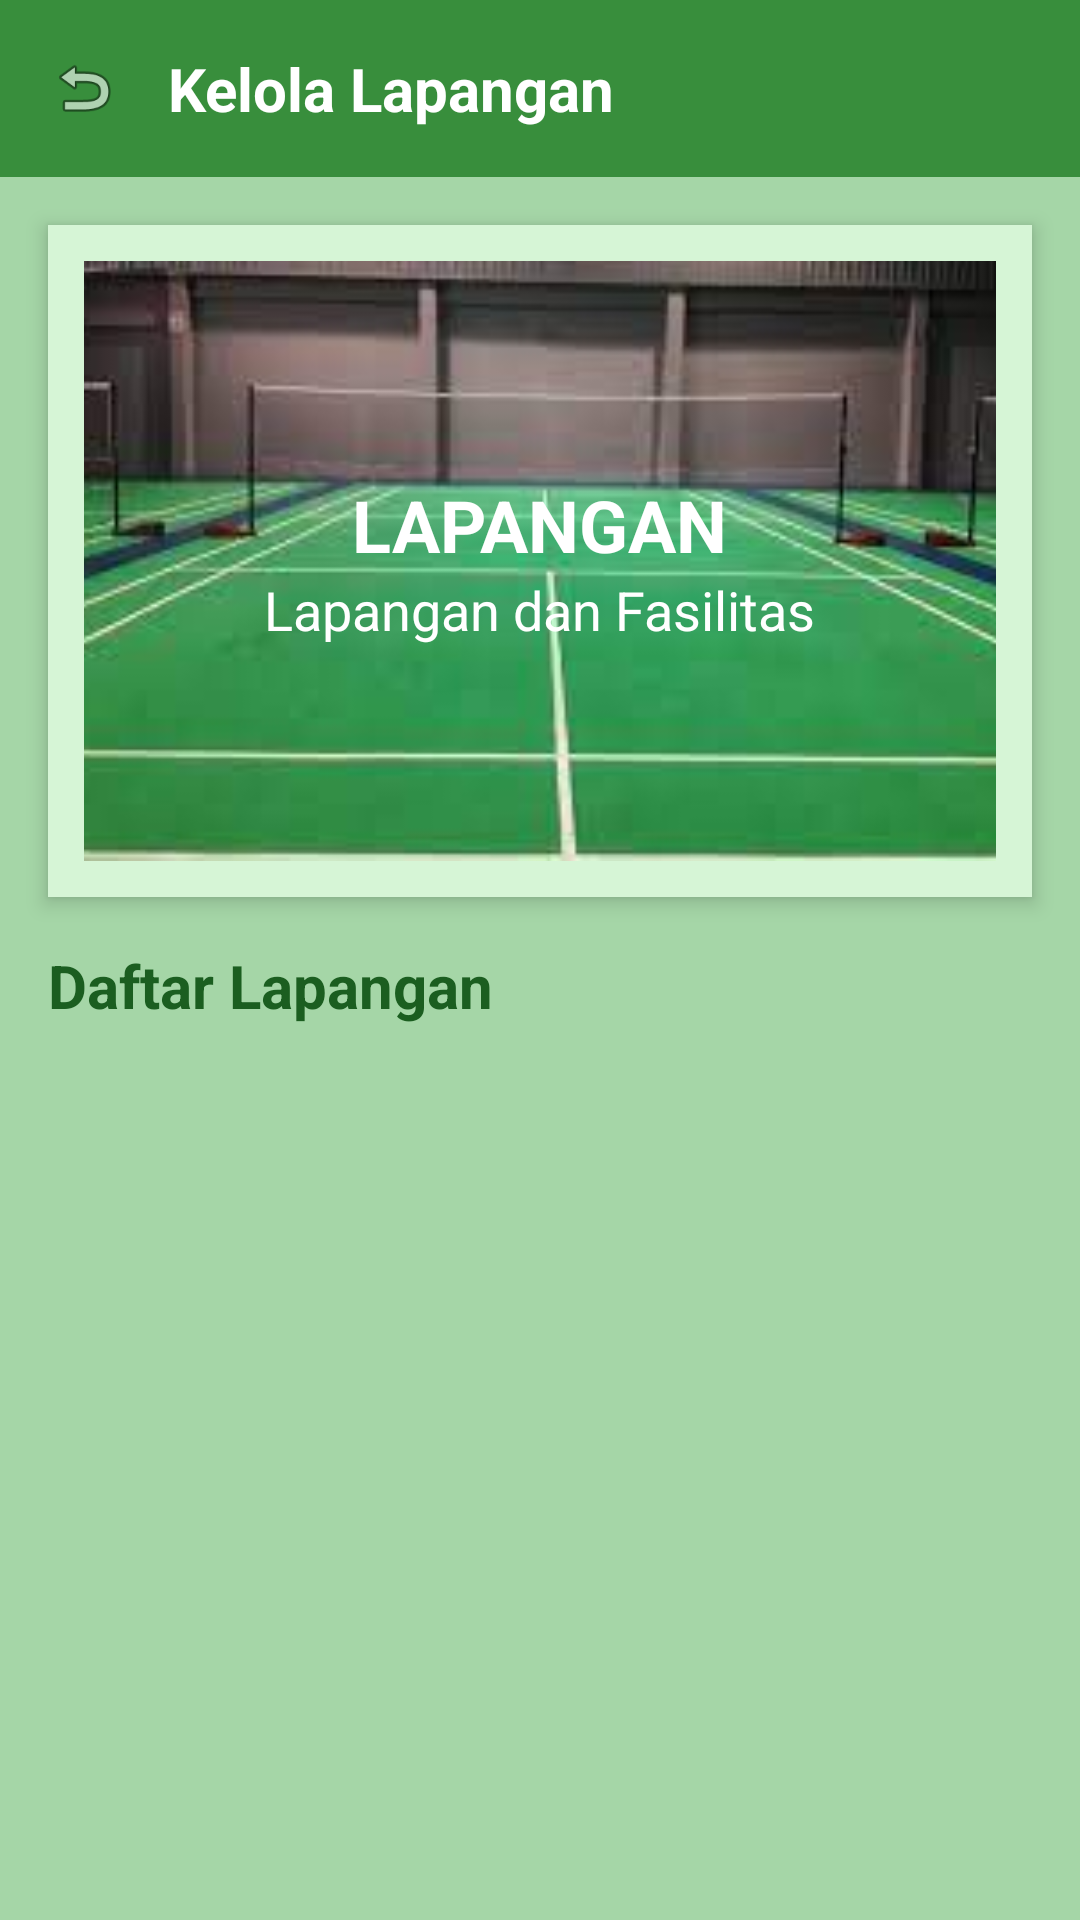

Icons on this 1080x1920 Android screen, each with the point to tap as (x,y):
Back: (85,88)
